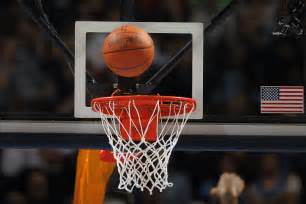basketball: (101, 23, 156, 79)
